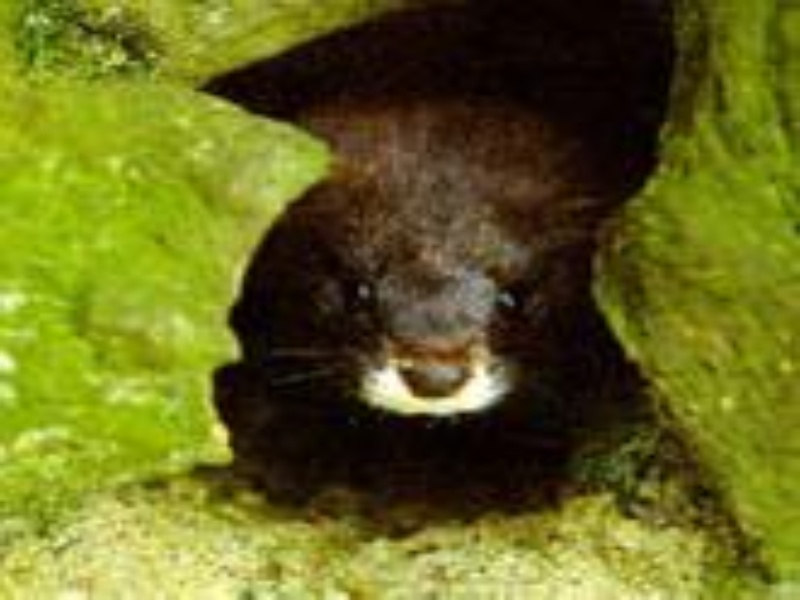minkish: (224, 93, 630, 501)
